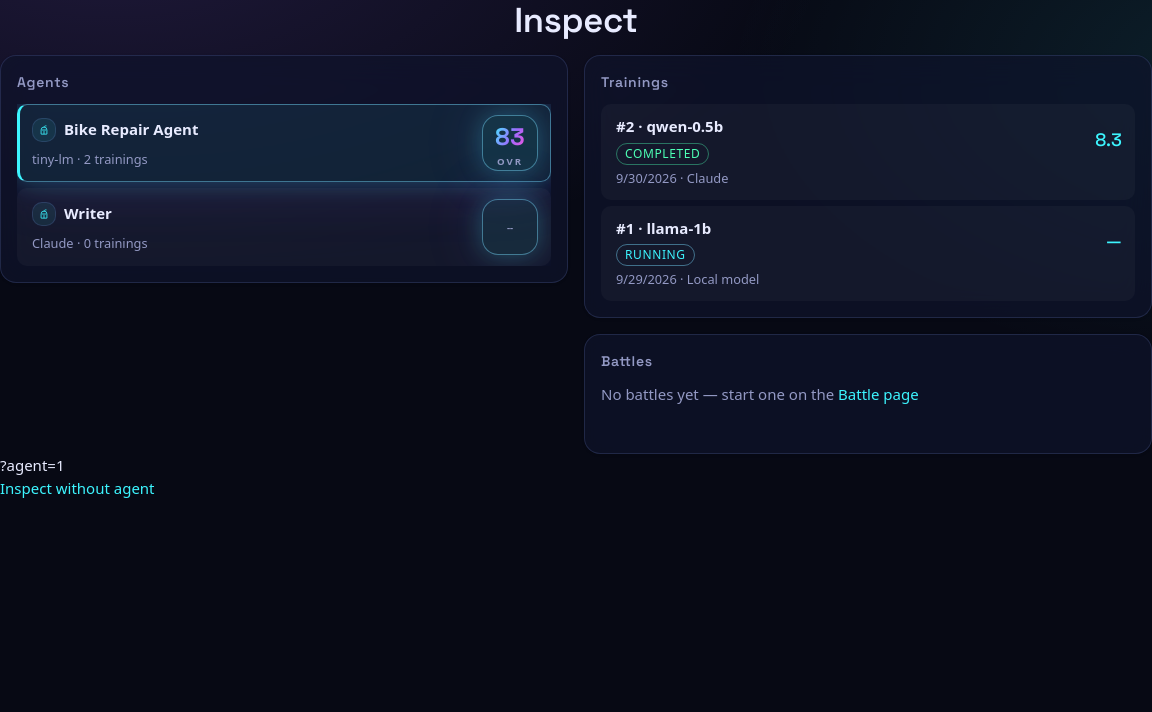
selecting a training loads its rounds
Click the button "#2 · qwen-0.5b completed 9/30/2026 · Claude 8.3" at x=685, y=126, box [601,104,1135,200]
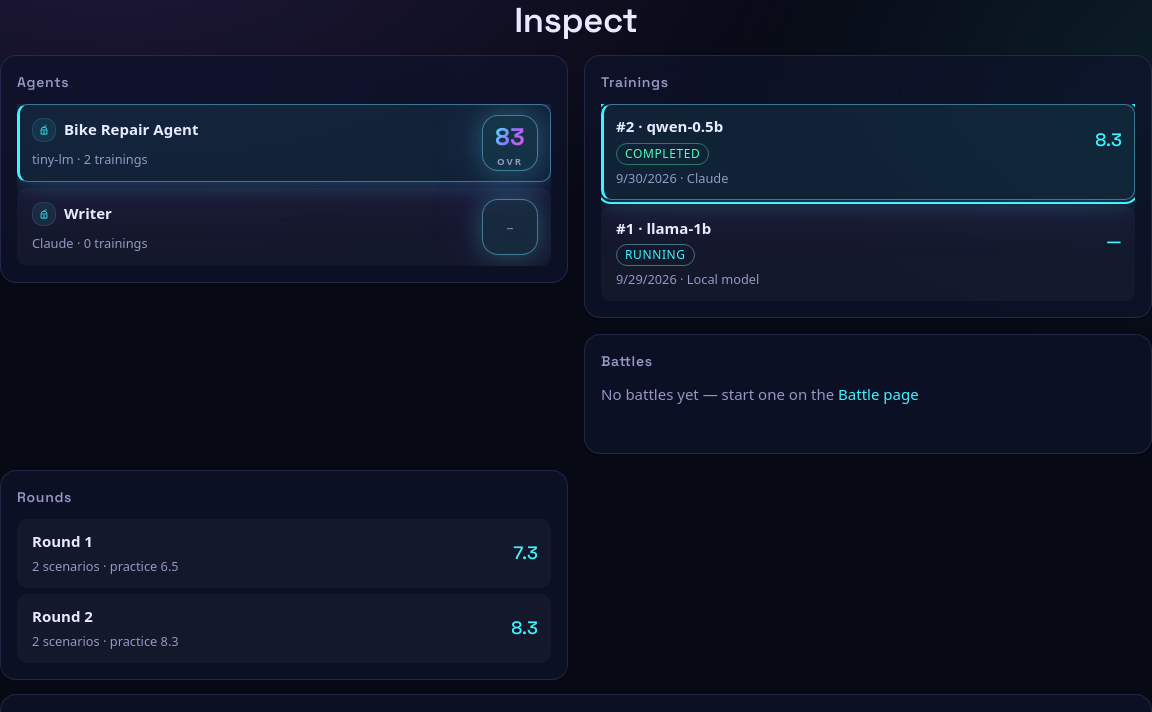
Expected: the button "Round 1 2 scenarios · practice 6.5 7.3" is shown, [17,519,551,588]
Expected: the button "Round 2 2 scenarios · practice 8.3 8.3" is shown, [17,594,551,663]
